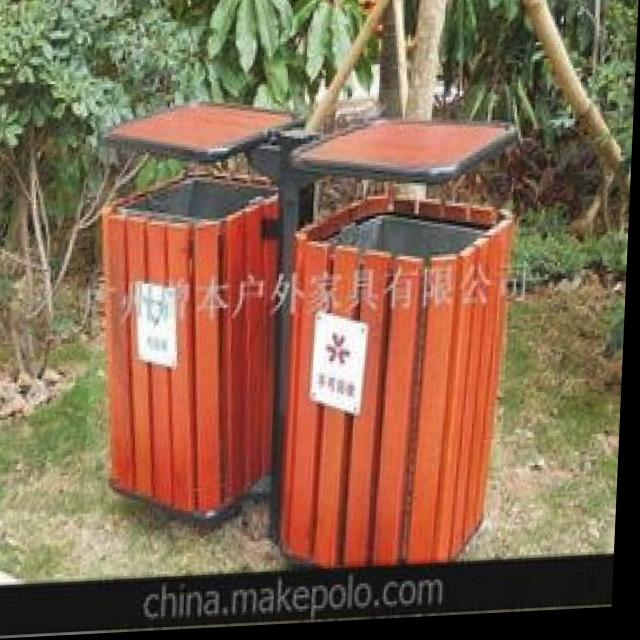garbage_bin: (86, 89, 519, 577)
